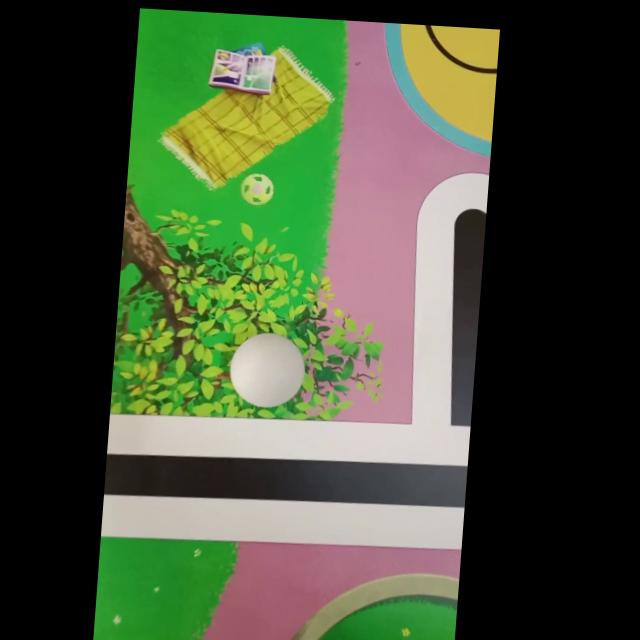white ball: (226, 329, 308, 410)
